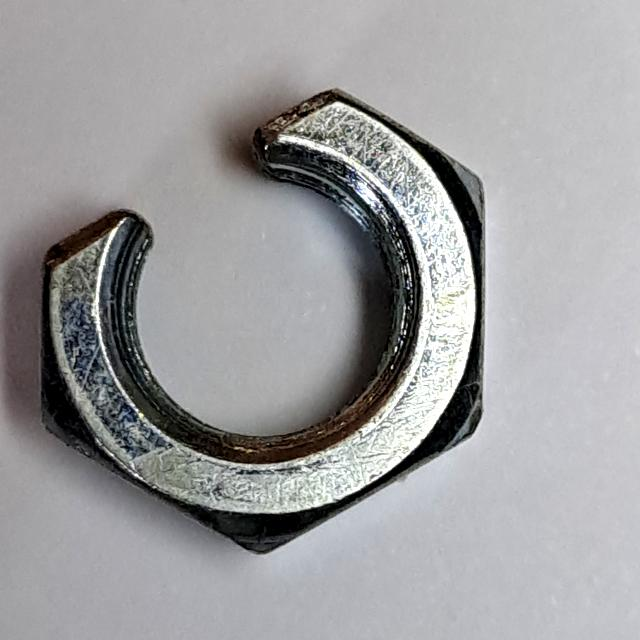Fracture: (27, 75, 502, 569)
